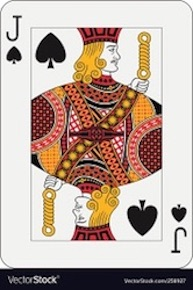JackOfSpades: (1, 1, 192, 268)
